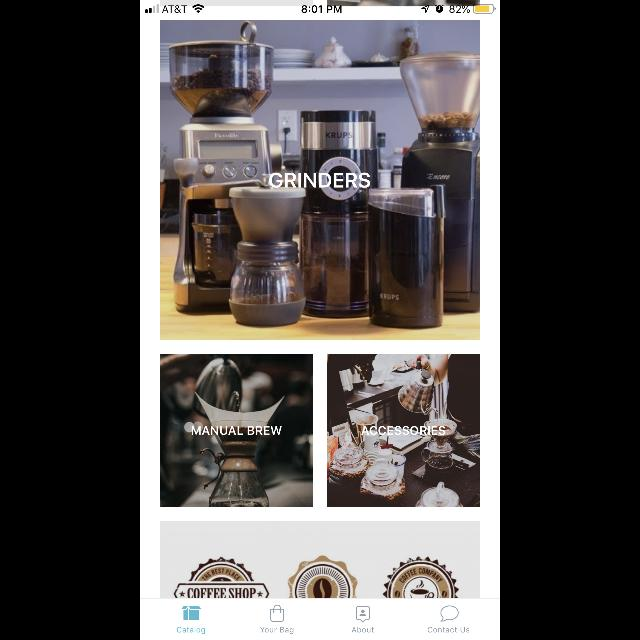icon: (441, 605, 459, 621), (270, 604, 284, 622), (356, 606, 370, 622)
image: (160, 20, 480, 340), (160, 522, 480, 598), (328, 354, 480, 508), (160, 354, 312, 506), (181, 606, 201, 620)
text: (270, 172, 370, 188), (192, 426, 282, 436), (361, 426, 445, 436), (260, 626, 294, 634), (428, 627, 470, 633), (177, 626, 205, 634), (352, 627, 374, 633)
uppertaskbar: (140, 0, 500, 14)
